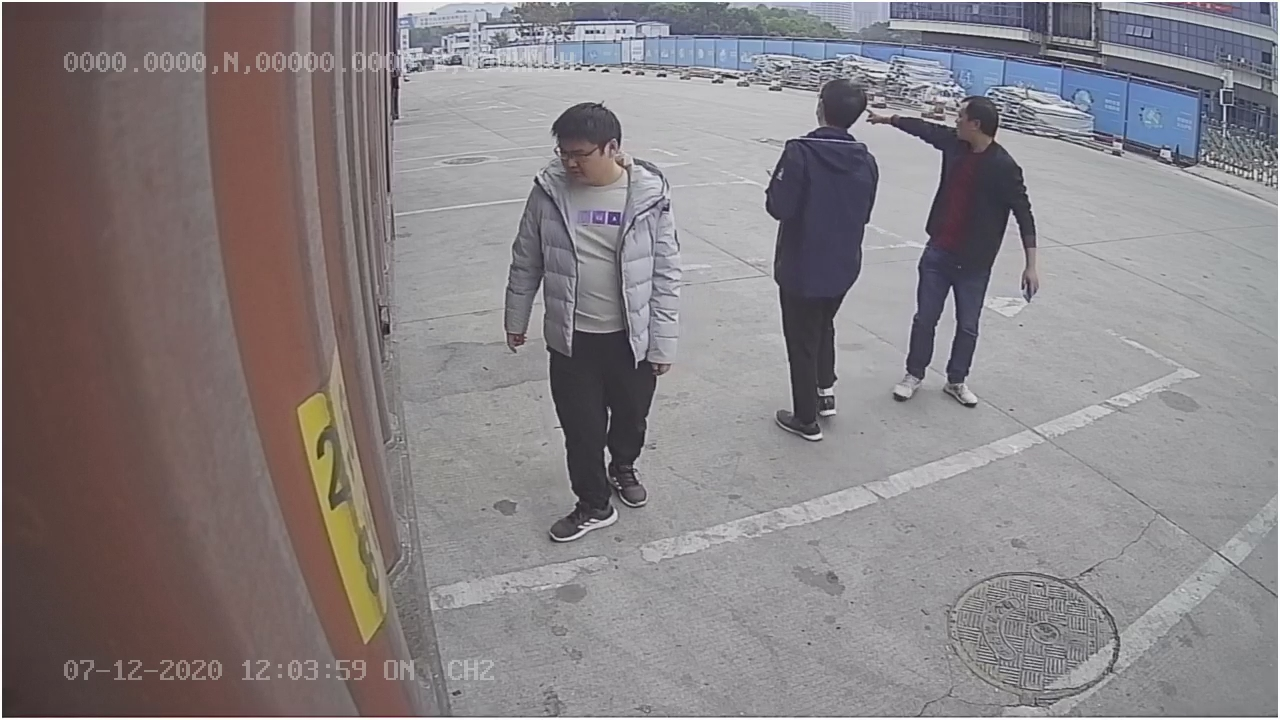person: (502, 90, 688, 547), (761, 74, 879, 440)
